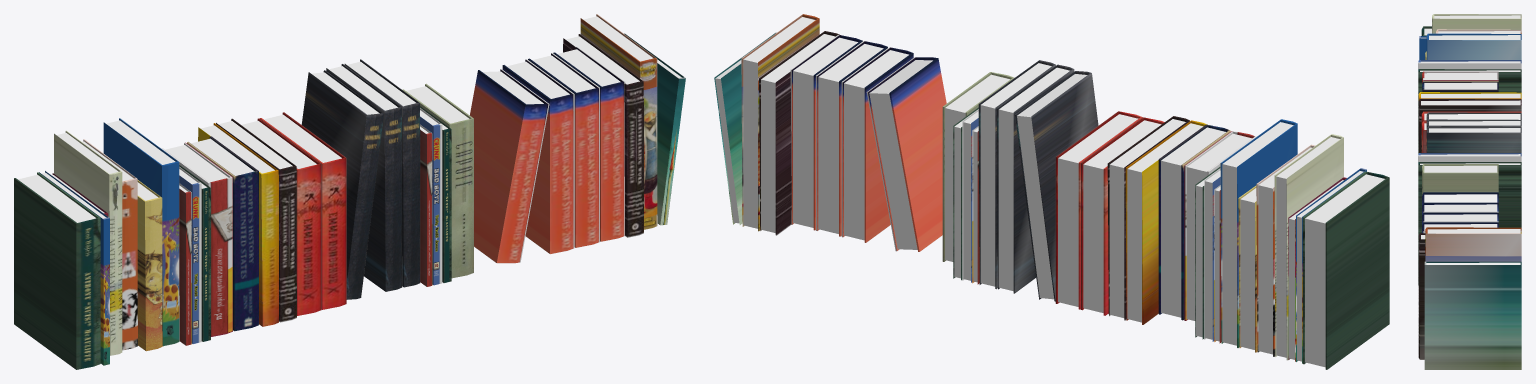
The model's file is books 1.FBX.
3 renders of one model, left to right at view 1: azimuth 30°, elevation 25°; view 2: azimuth 150°, elevation 25°; view 3: azimuth 270°, elevation 25°, orthographic. The views are drawn at different scales.
Visible parts, largest first — view 1: books 1; view 2: books 1; view 3: books 1.
Part boxes in pixels (<box>): books 1: <box>14,14,685,369</box>; books 1: <box>714,14,1389,369</box>; books 1: <box>1418,14,1521,369</box>.
Bounding box in the file's own units: 945 × 176 × 269.
1 material, 1 textured.
